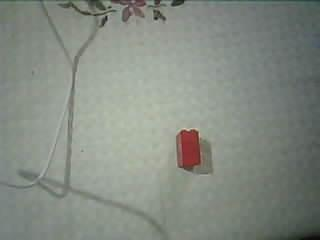lego: (175, 128, 202, 169)
